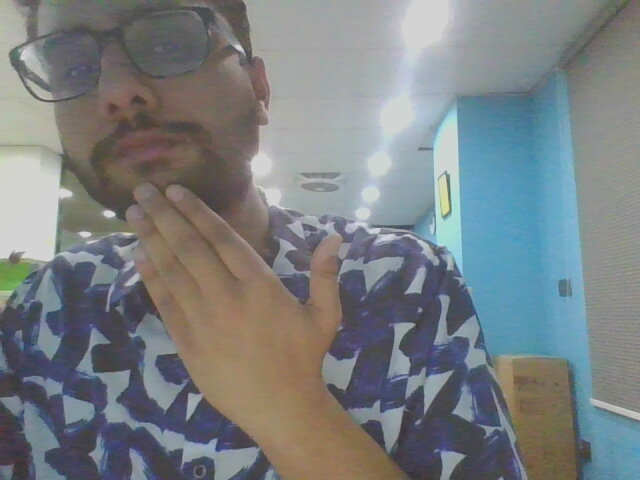thanks: (102, 175, 389, 450)
